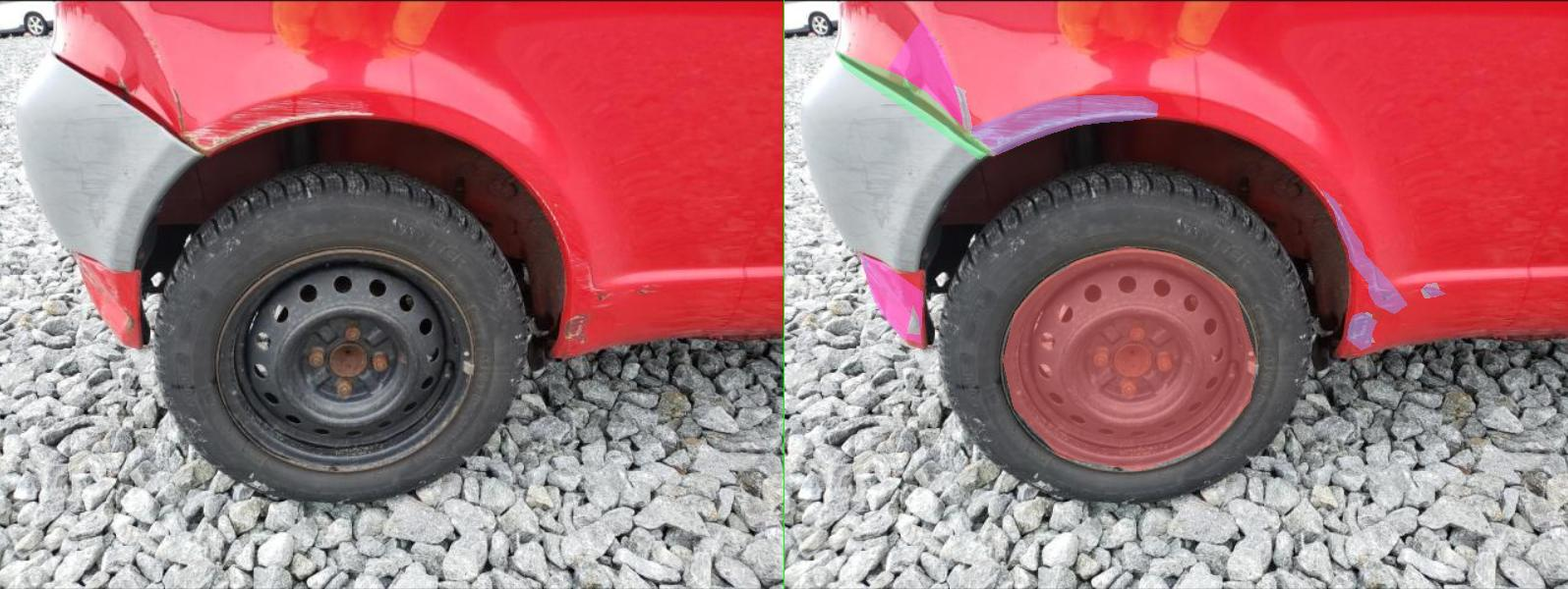Broken part: (100, 51, 411, 159)
Corrosion: (338, 85, 423, 155), (1129, 312, 1180, 343), (230, 74, 268, 97), (244, 305, 270, 334), (1273, 283, 1310, 297), (1188, 291, 1214, 303)
Dent: (195, 20, 370, 136), (163, 261, 275, 343), (153, 254, 240, 304)
Missing part: (437, 246, 942, 470)
Scratch: (348, 95, 746, 155), (1076, 189, 1245, 313), (159, 258, 252, 312), (1125, 312, 1184, 349), (1277, 286, 1322, 296)
